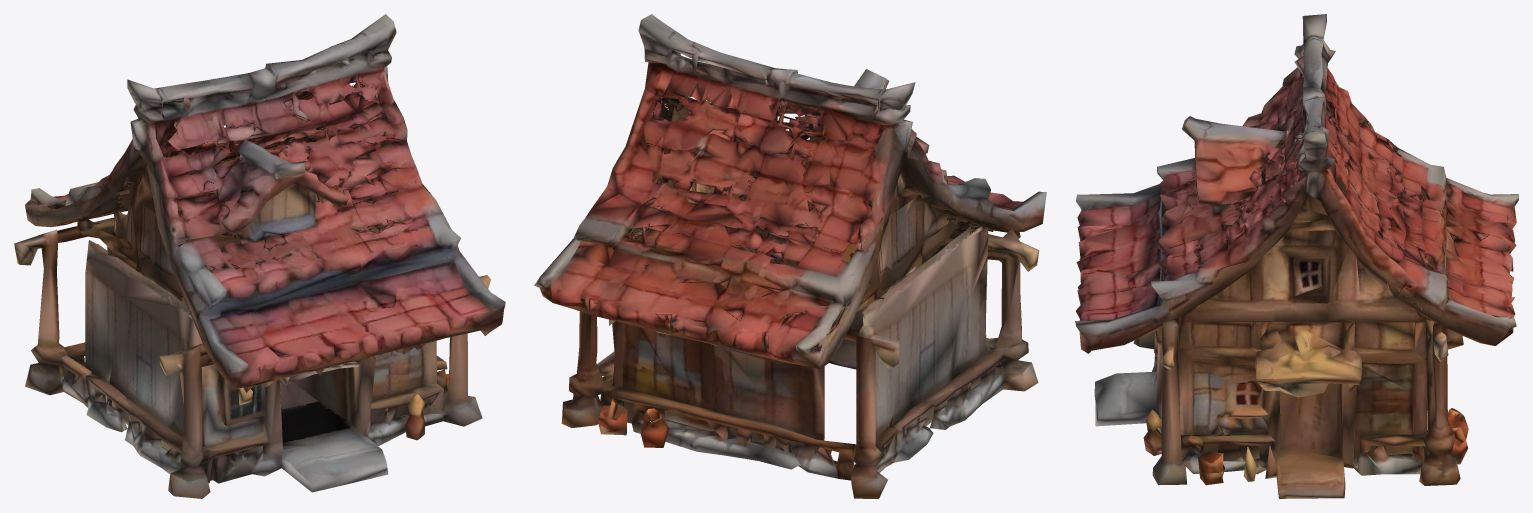
Rendered from village_house.glb.
3 views of the same model, side by side, from view 1: azimuth 30°, elevation 25°; view 2: azimuth 150°, elevation 25°; view 3: azimuth 270°, elevation 25° (orthographic). The views are drawn at different scales.
Parts seen in each view (by area): view 1: tripo_node_a2ae3820-2c6c-40d2-8605-8d4a5f917bdf; view 2: tripo_node_a2ae3820-2c6c-40d2-8605-8d4a5f917bdf; view 3: tripo_node_a2ae3820-2c6c-40d2-8605-8d4a5f917bdf.
Boxes of the visible parts, <box> form: tripo_node_a2ae3820-2c6c-40d2-8605-8d4a5f917bdf: <box>14,14,505,498</box>; tripo_node_a2ae3820-2c6c-40d2-8605-8d4a5f917bdf: <box>534,14,1046,498</box>; tripo_node_a2ae3820-2c6c-40d2-8605-8d4a5f917bdf: <box>1075,14,1518,498</box>.
Bounding box in the file's own units: 0.9009 × 0.8556 × 0.9932.
Materials: 1 (1 with a texture image).
